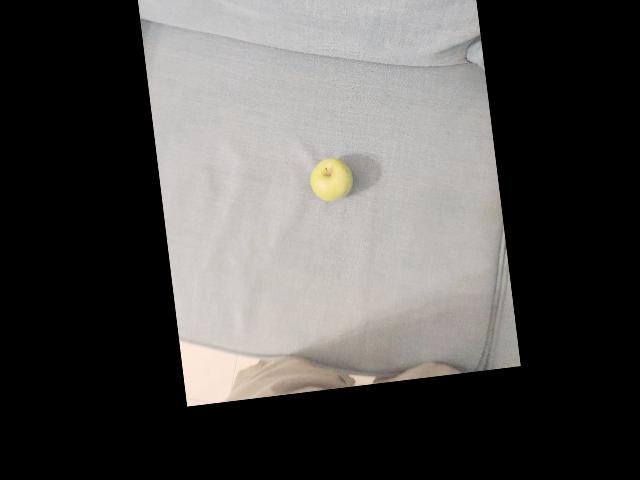apple: (298, 150, 358, 220)
